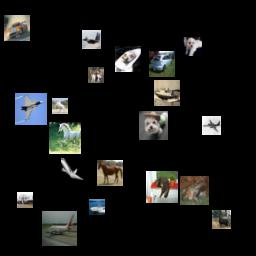airplane: (42, 211, 77, 246), (15, 93, 47, 125), (61, 158, 83, 180), (82, 30, 101, 49), (202, 116, 221, 135)
automobile: (149, 51, 175, 77), (4, 15, 30, 41)
cat: (146, 171, 178, 203)
deer: (212, 210, 231, 229)
dog: (139, 111, 168, 140), (183, 37, 202, 56), (88, 67, 104, 83)
frog: (180, 176, 209, 205)
ship: (115, 46, 141, 72), (154, 80, 180, 106), (89, 199, 105, 215)
truck: (17, 192, 33, 208)
